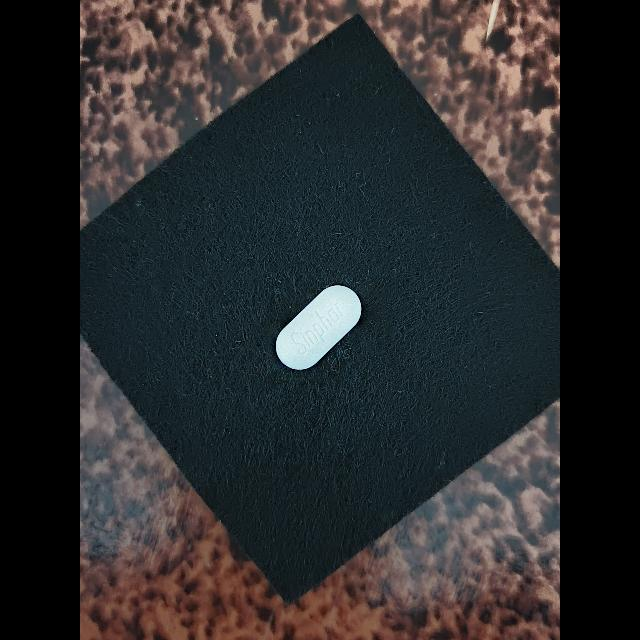Intact Pill: (275, 285, 362, 370)
